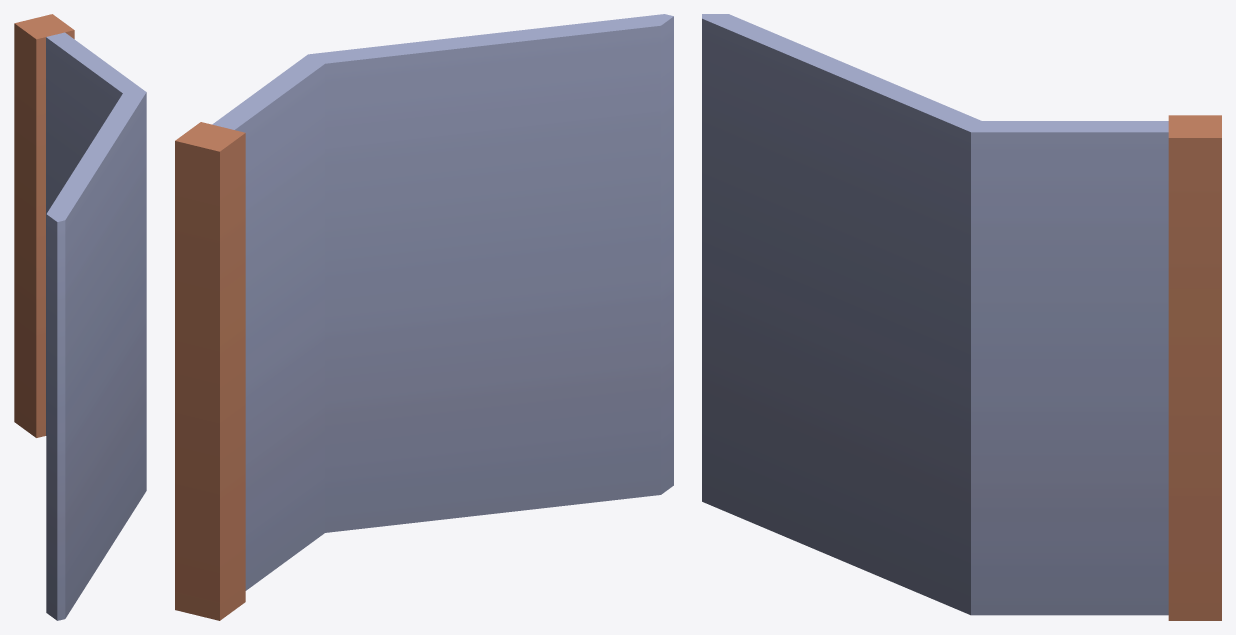
File: kenney-fantasy-town-wall-corner-diagonal-half.glb
3 views of the same model, side by side, from view 1: azimuth 30°, elevation 25°; view 2: azimuth 150°, elevation 25°; view 3: azimuth 270°, elevation 25° (orthographic). The views are drawn at different scales.
Visible parts, largest first — view 1: wall-corner-diagonal-half; view 2: wall-corner-diagonal-half; view 3: wall-corner-diagonal-half.
Part boxes in pixels (bbox=[...]): wall-corner-diagonal-half: bbox=[14, 14, 146, 620]; wall-corner-diagonal-half: bbox=[175, 14, 673, 620]; wall-corner-diagonal-half: bbox=[702, 14, 1221, 620].
Size of the model in its own units: 0.55 by 1 by 0.975.
1 material, 1 textured.
